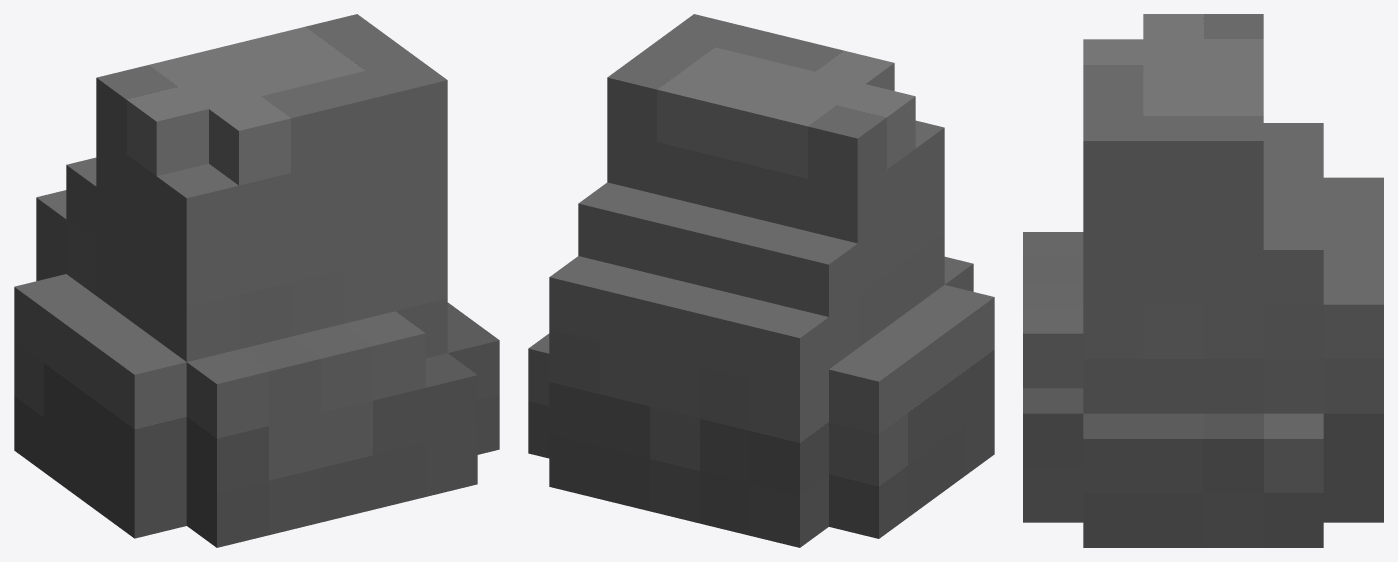
The model's file is rock6.fbx.
3 renders of one model, left to right at view 1: azimuth 30°, elevation 25°; view 2: azimuth 150°, elevation 25°; view 3: azimuth 270°, elevation 25°, orthographic. The views are drawn at different scales.
Visible parts, largest first — view 1: rock6; view 2: rock6; view 3: rock6.
Part boxes in pixels (bbox=[...]): rock6: bbox=[14, 14, 499, 547]; rock6: bbox=[528, 14, 994, 547]; rock6: bbox=[1023, 14, 1383, 547].
Bounding box in the file's own units: 7 × 7 × 6.
Materials: 1 (1 with a texture image).
